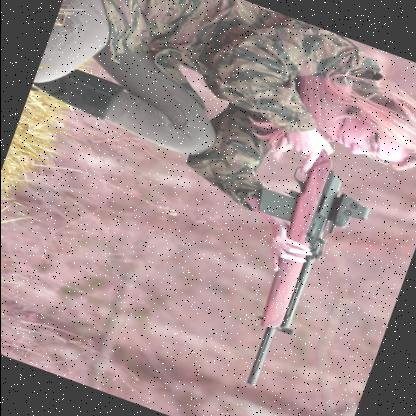rifle: (178, 55, 411, 410)
